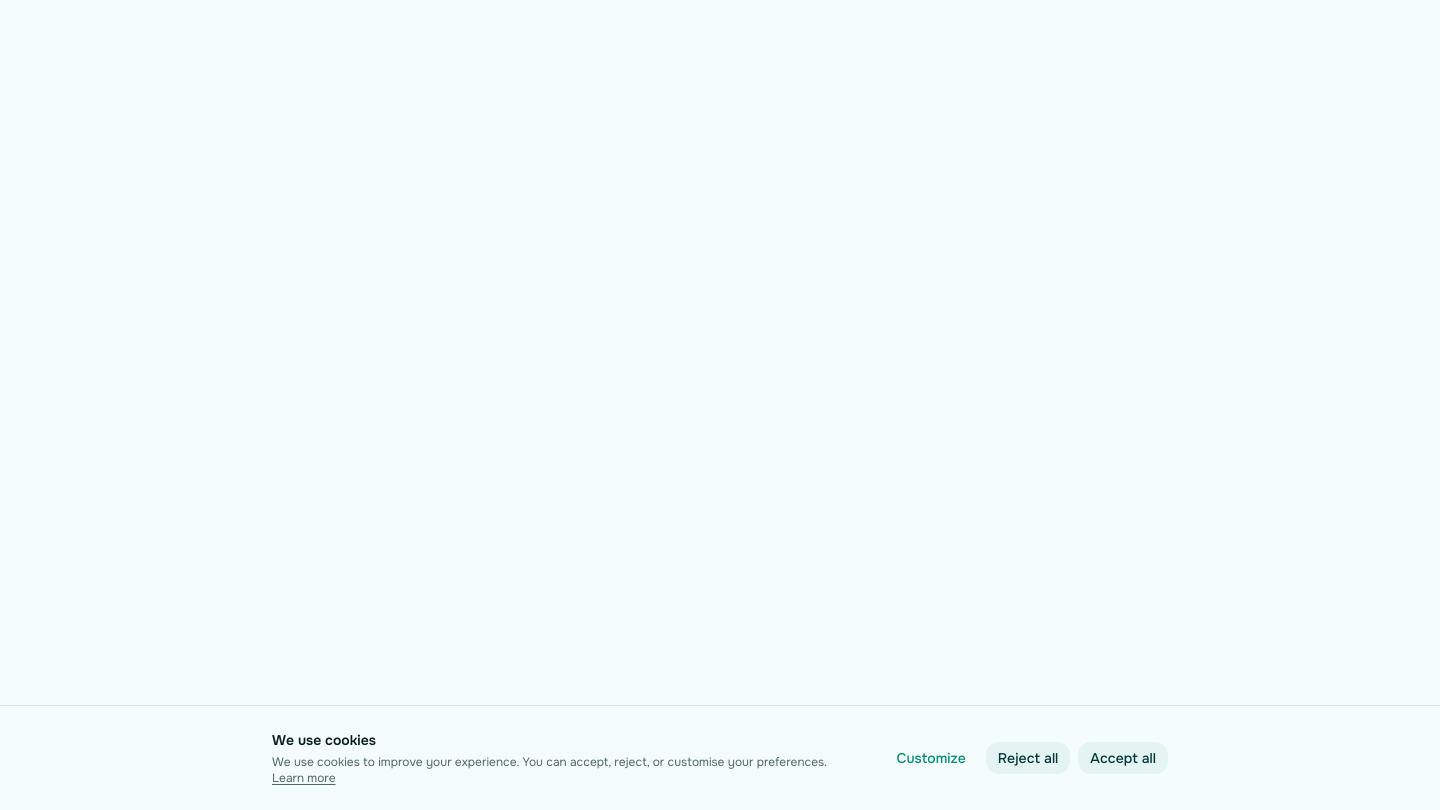
Scenario: CookiePreferenceCenter — mixed-toggle save and dismissal › Cancel closes the preference center without writing consent (readConsent stays null)
Open the preference center
Click the button "Customize" at [931, 758], box left=884, top=742, right=978, bottom=774
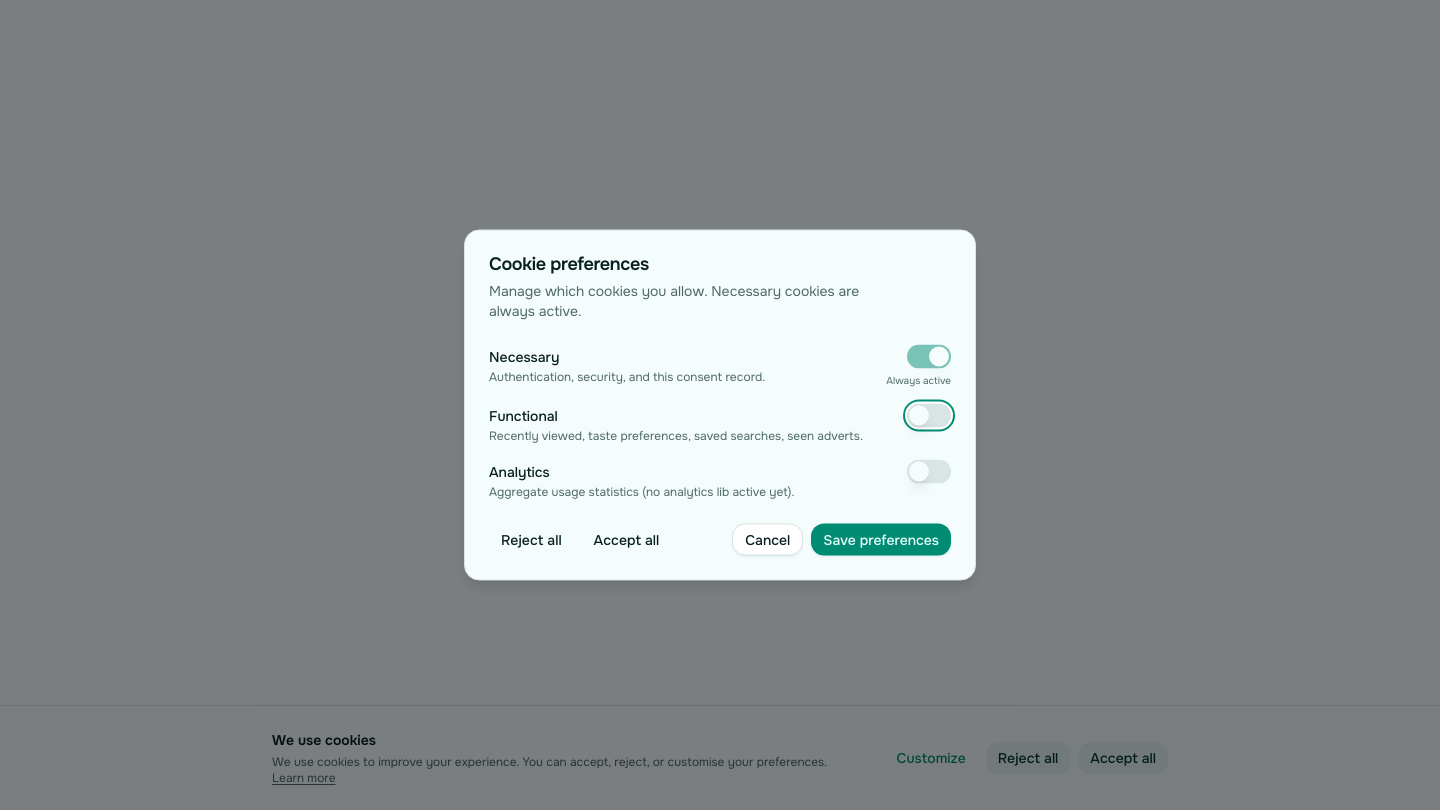
Expected: the button "Cancel" is shown
Click Cancel — should close without writing
Click the button "Cancel" at [768, 540], box left=732, top=524, right=803, bottom=556
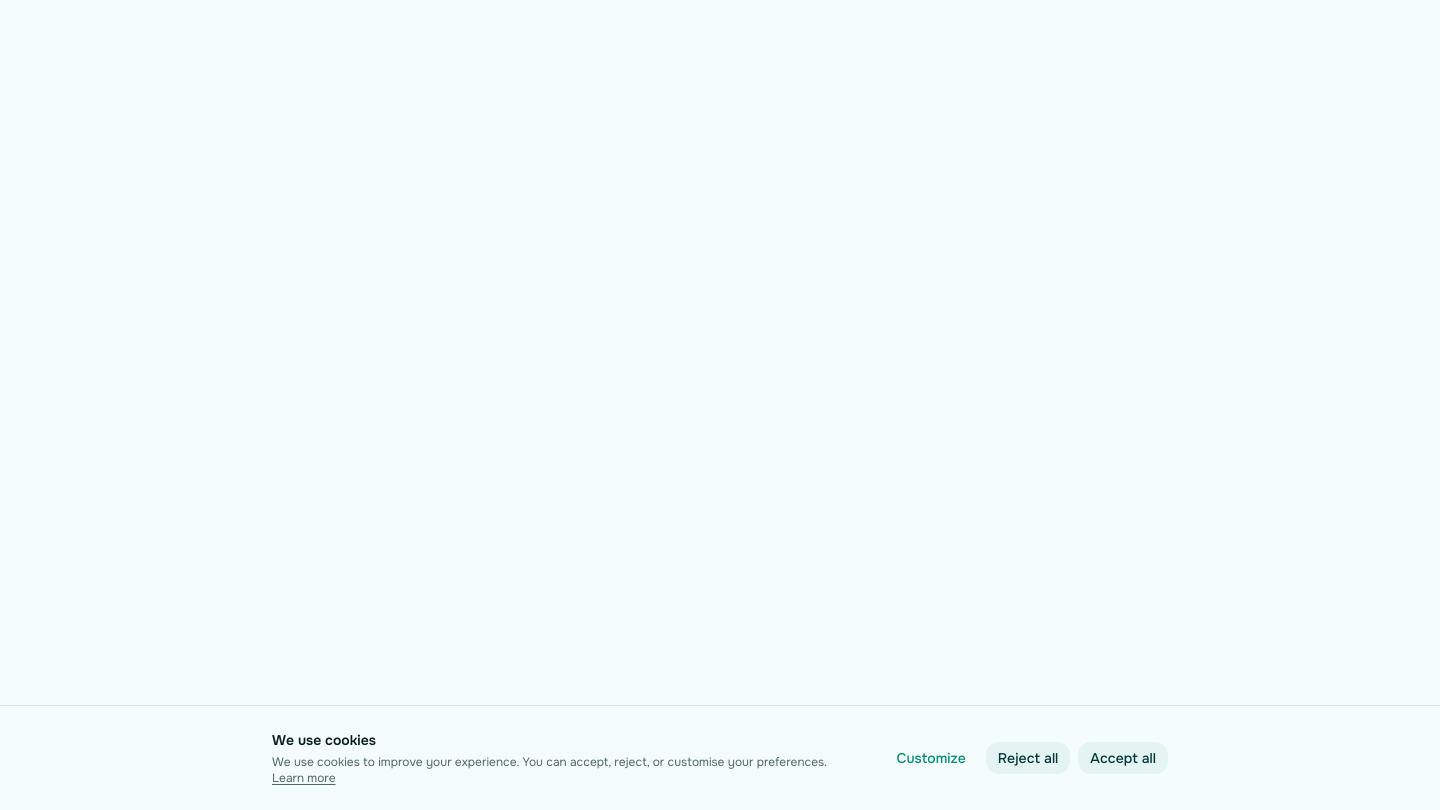
Expected: the button "Cancel" is gone
